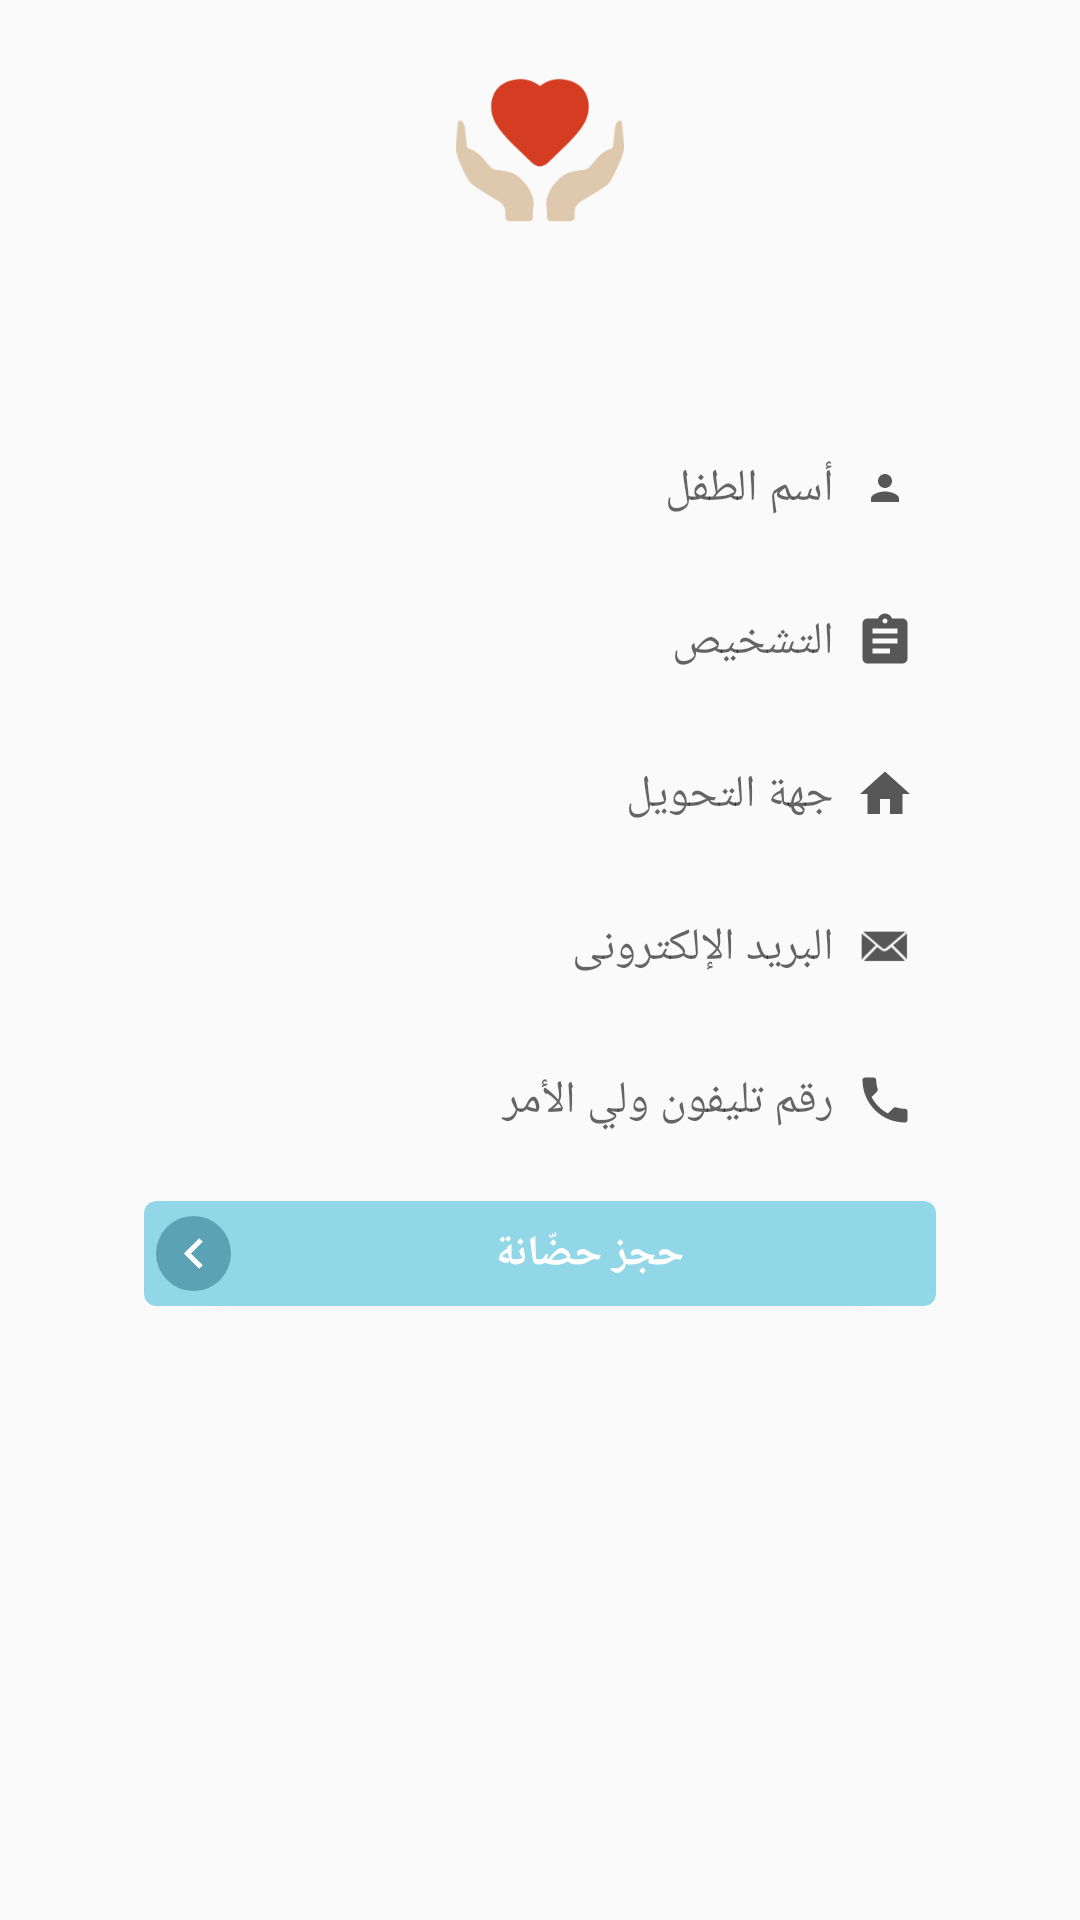

Named icons in this screenshot (1080px x 1920px) and their centers, point (x, y):
assignment: point (885, 638)
heart: point (540, 150)
home: point (885, 793)
person: point (885, 488)
phone: point (885, 1100)
sym action email: point (884, 946)
